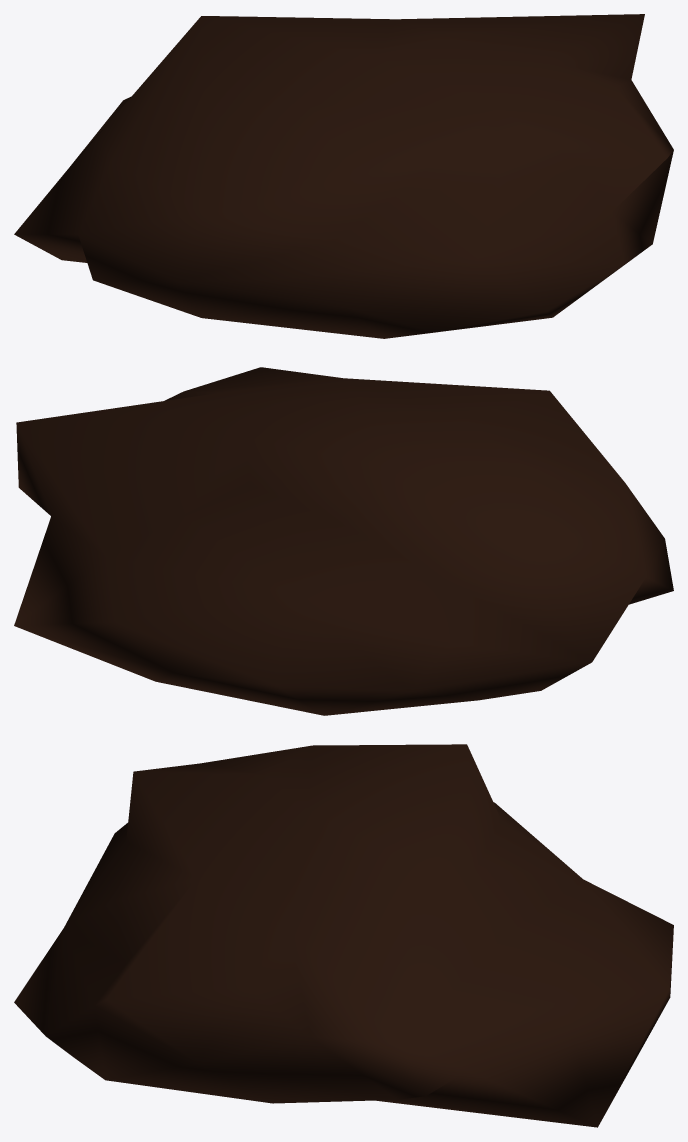
Rendered from Pebble_rock1.dae.
3 renders of one model, top to bottom at view 1: azimuth 30°, elevation 25°; view 2: azimuth 150°, elevation 25°; view 3: azimuth 270°, elevation 25°, orthographic. The views are drawn at different scales.
Parts seen in each view (by area): view 1: pasted__pPlatonic2; view 2: pasted__pPlatonic2; view 3: pasted__pPlatonic2.
Boxes of the visible parts, x1,y1,x2,y2 form: pasted__pPlatonic2: (14,14,673,338); pasted__pPlatonic2: (14,367,673,715); pasted__pPlatonic2: (14,744,673,1127).
Size of the model in its own units: 2.85 by 0.9813 by 2.47.
